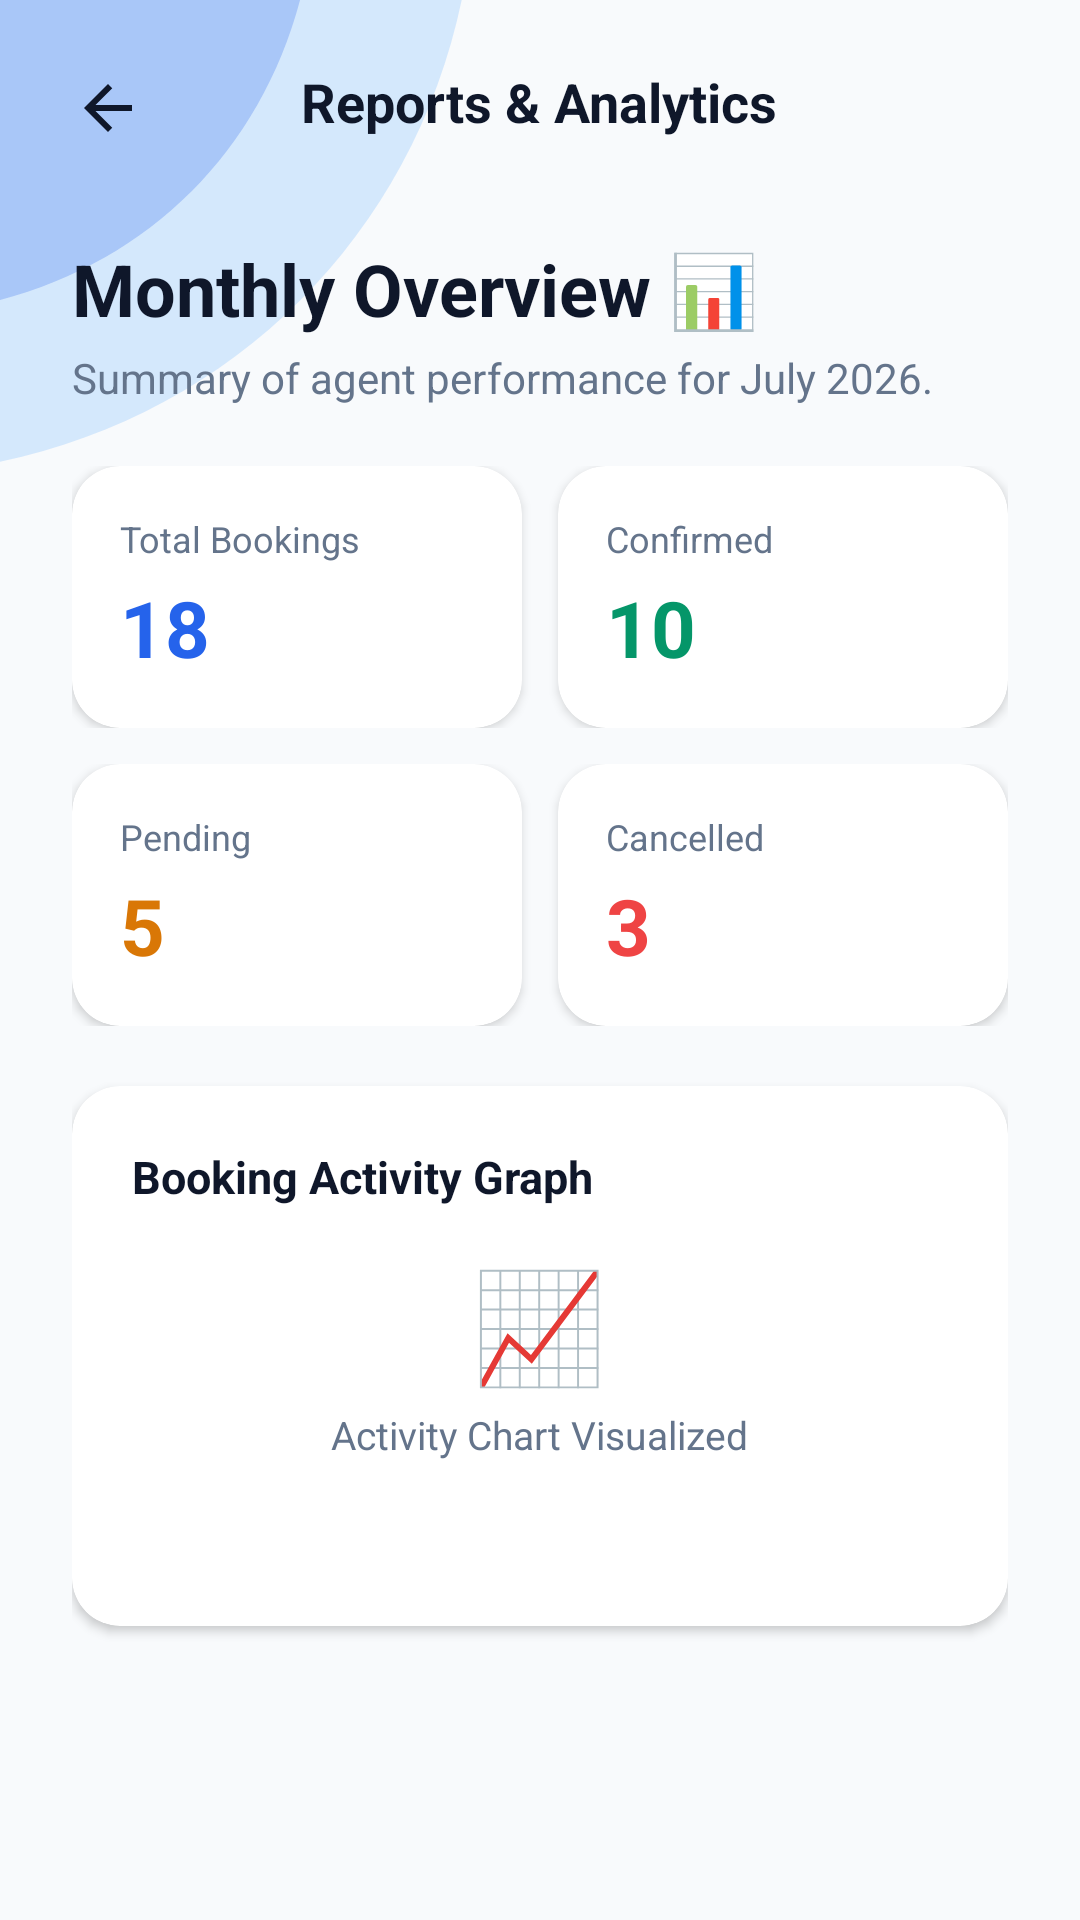

Screen size 1080w x 1920h. Icon name, then its box in pixels as Rect(x1, y1, x2, y2):
Back Button: Rect(84, 84, 132, 132)
